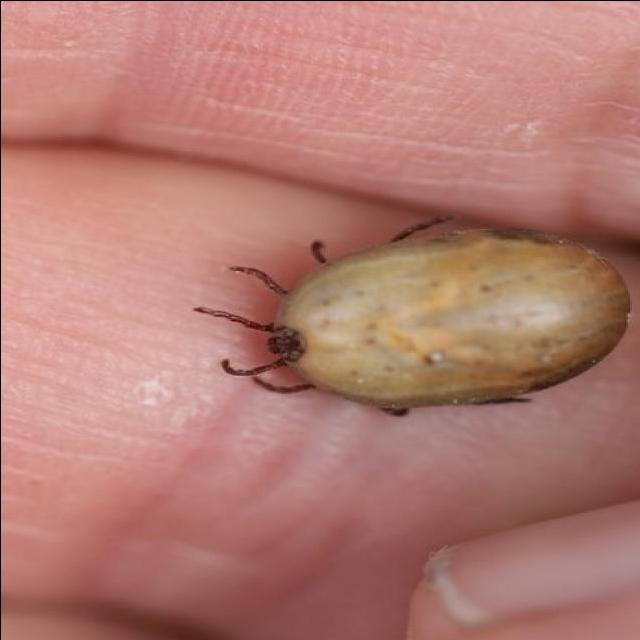Dermacentor Reticulatus-F-Fed: (190, 215, 629, 416)
